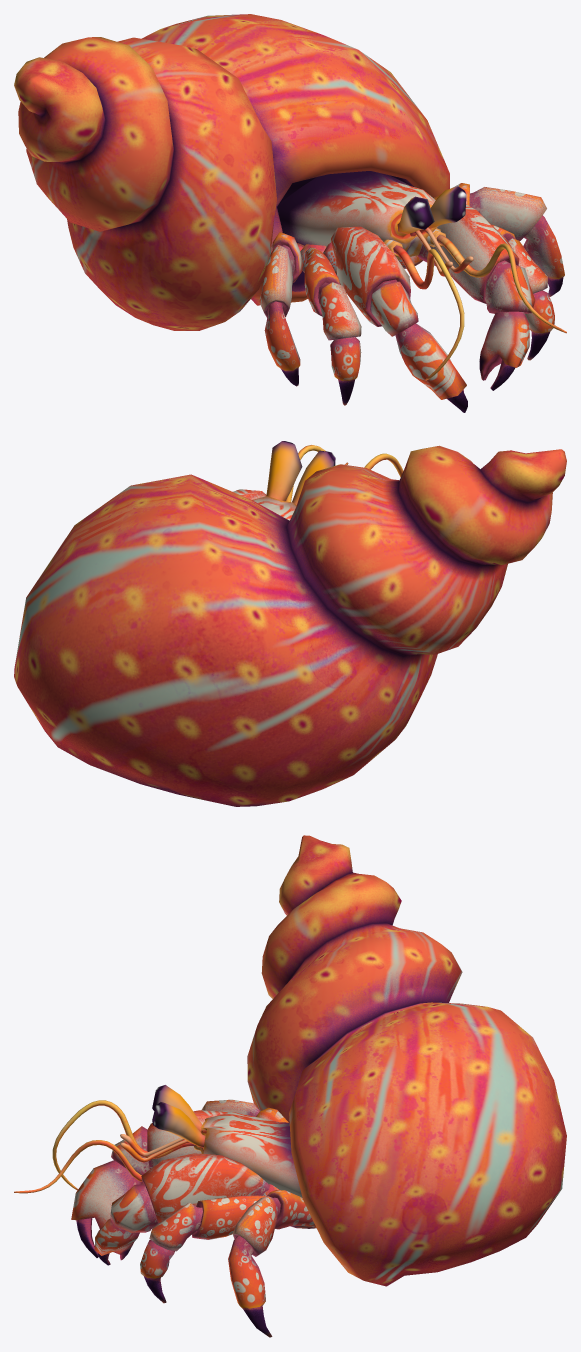
Rendered from little_hermit_crab.glb.
3 renders of one model, top to bottom at view 1: azimuth 30°, elevation 25°; view 2: azimuth 150°, elevation 25°; view 3: azimuth 270°, elevation 25°, orthographic. The views are drawn at different scales.
Parts seen in each view (by area): view 1: Shell_LP, Claw1L_LP, Claw1R_LP, Body_LP, Claw2L_LP, Claw3R_LP, Claw3L_LP, Claw2R_LP, Eyes_LP, AntennaL_LP, AntennaR_LP, Horns_LP; view 2: Shell_LP, Eyes_LP, Body_LP; view 3: Shell_LP, Claw1R_LP, Claw3R_LP, Body_LP, Claw1L_LP, Claw2R_LP, Eyes_LP, AntennaL_LP, Claw3L_LP, AntennaR_LP, Horns_LP.
Boxes of the visible parts, <box> form: Shell_LP: <box>14,14,449,330</box>; Claw1L_LP: <box>323,226,467,412</box>; Claw1R_LP: <box>398,204,535,390</box>; Body_LP: <box>277,171,438,259</box>; Claw2L_LP: <box>300,244,361,405</box>; Claw3R_LP: <box>434,183,564,296</box>; Claw3L_LP: <box>259,232,304,386</box>; Claw2R_LP: <box>492,225,554,360</box>; Eyes_LP: <box>397,186,466,234</box>; AntennaL_LP: <box>383,239,464,380</box>; AntennaR_LP: <box>425,228,566,333</box>; Horns_LP: <box>410,227,473,276</box>; Shell_LP: <box>14,445,566,806</box>; Eyes_LP: <box>266,441,335,504</box>; Body_LP: <box>252,496,296,520</box>; Shell_LP: <box>247,835,566,1286</box>; Claw1R_LP: <box>94,1153,278,1265</box>; Claw3R_LP: <box>228,1189,316,1337</box>; Body_LP: <box>199,1112,302,1197</box>; Claw1L_LP: <box>71,1110,227,1257</box>; Claw2R_LP: <box>140,1195,316,1303</box>; Eyes_LP: <box>152,1085,205,1147</box>; AntennaL_LP: <box>52,1100,200,1190</box>; Claw3L_LP: <box>201,1099,288,1122</box>; AntennaR_LP: <box>14,1140,141,1193</box>; Horns_LP: <box>120,1134,202,1162</box>.
Bounding box in the file's own units: 2.99 × 1.83 × 3.19.
Materials: 1 (1 with a texture image).
